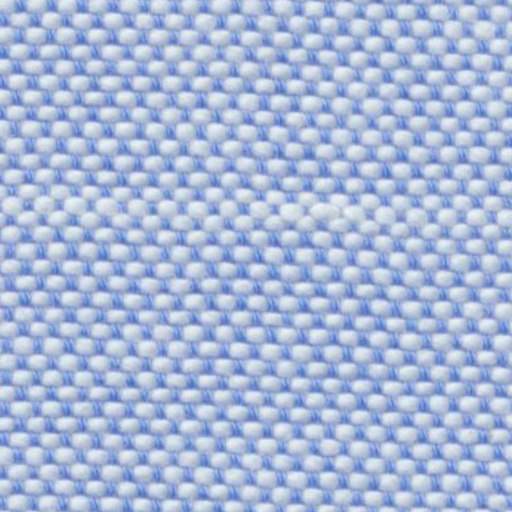TuoSha: (12, 151, 493, 275)
